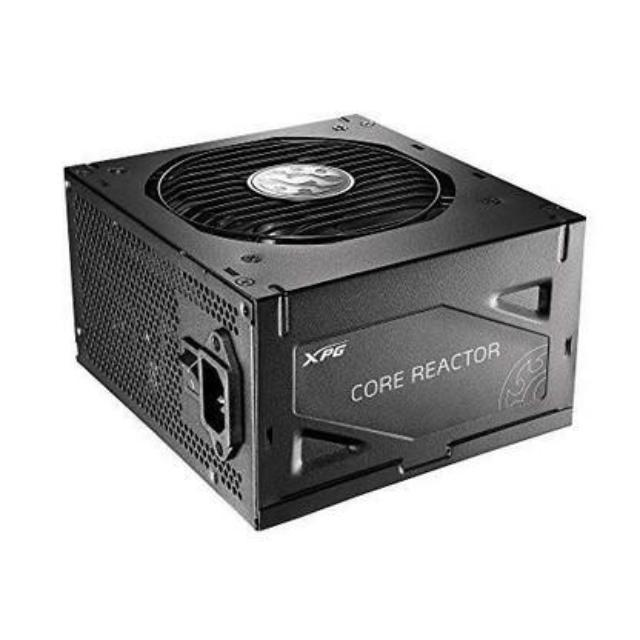PSU: (54, 100, 598, 532)
